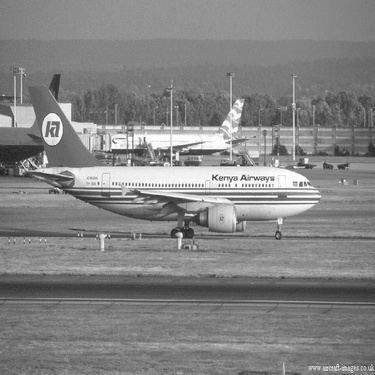airplane: (18, 80, 327, 247), (91, 89, 256, 165), (1, 68, 67, 173)
